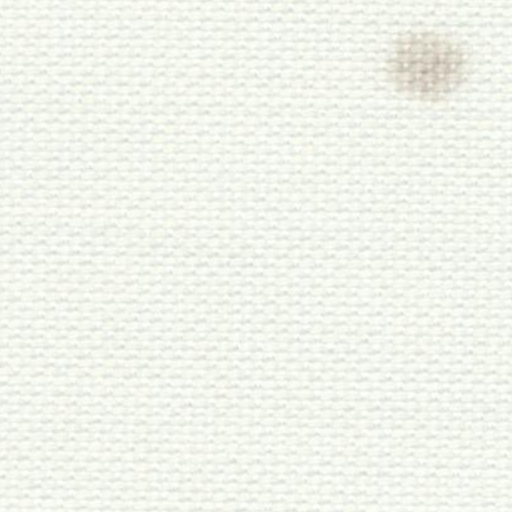WuZi: (356, 14, 485, 127)
